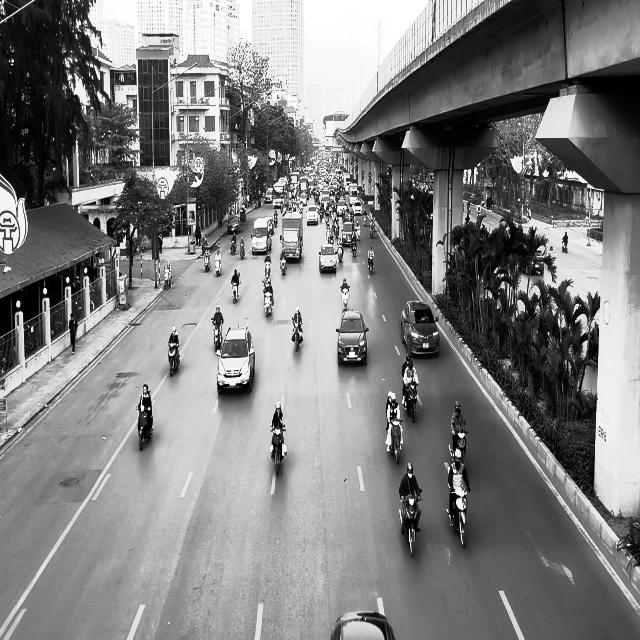car: (216, 324, 255, 395), (400, 301, 440, 356), (336, 309, 368, 366), (330, 611, 395, 639), (318, 243, 337, 273), (227, 214, 241, 233)
motorbike: (398, 490, 422, 558), (446, 487, 469, 548), (270, 426, 287, 476), (386, 416, 403, 464), (136, 405, 153, 450), (450, 429, 468, 466), (403, 383, 418, 422), (167, 342, 180, 376), (262, 280, 274, 316), (291, 316, 303, 351), (211, 318, 223, 352), (340, 285, 350, 311), (214, 249, 222, 276), (163, 266, 172, 290), (232, 278, 240, 304), (203, 249, 210, 272), (367, 252, 374, 274), (351, 234, 357, 256), (280, 253, 286, 275), (230, 236, 237, 254), (562, 238, 568, 252)
